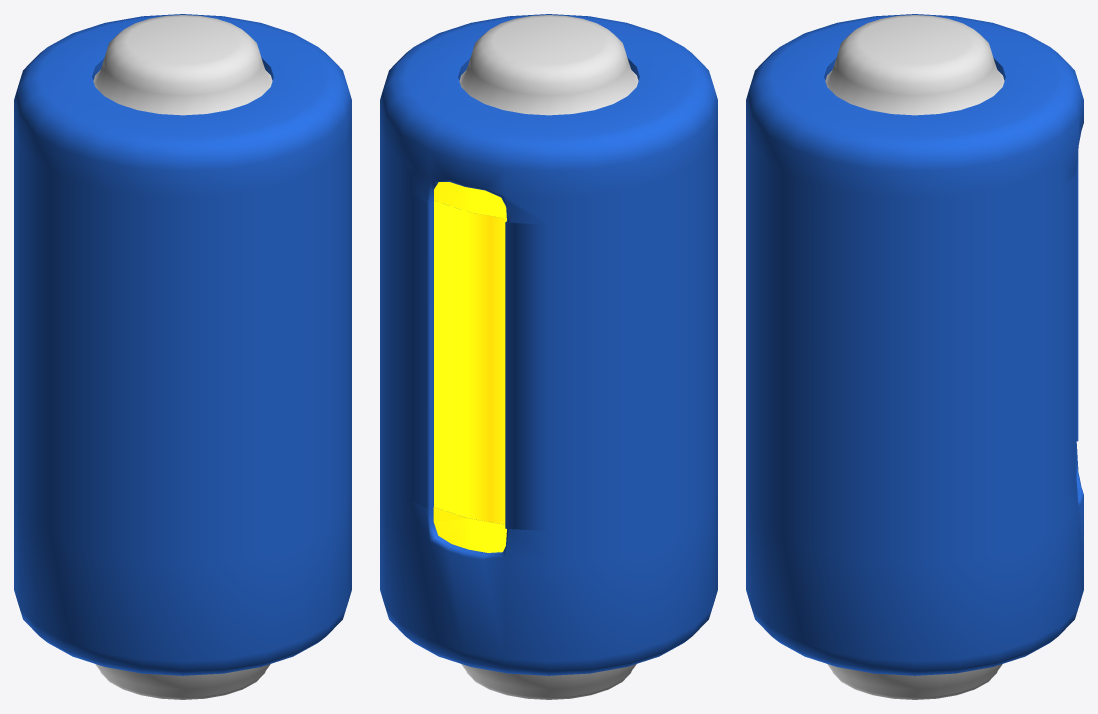
The model's file is Battery_v4.fbx.
3 renders of one model, left to right at view 1: azimuth 30°, elevation 25°; view 2: azimuth 150°, elevation 25°; view 3: azimuth 270°, elevation 25°, orthographic.
Visible parts, largest first — view 1: Batery_End_v2, Buttery_Body_v1.003, Buttery_Body_v1.002, Battery_Bottom_v2; view 2: Batery_End_v2, Battery_Bottom_v2, Buttery_Body_v1.002, Buttery_Body_v1.003; view 3: Batery_End_v2, Battery_Bottom_v2, Buttery_Body_v1.003, Buttery_Body_v1.002.
Boxes of the visible parts, box(x1,y1,x2,y2) form: Batery_End_v2: box(14, 14, 351, 224); Buttery_Body_v1.003: box(14, 307, 351, 531); Buttery_Body_v1.002: box(14, 154, 351, 377); Battery_Bottom_v2: box(14, 460, 351, 699); Batery_End_v2: box(380, 14, 717, 224); Battery_Bottom_v2: box(380, 460, 717, 699); Buttery_Body_v1.002: box(380, 154, 717, 377); Buttery_Body_v1.003: box(380, 307, 717, 531); Batery_End_v2: box(746, 14, 1083, 224); Battery_Bottom_v2: box(746, 444, 1083, 699); Buttery_Body_v1.003: box(746, 288, 1078, 531); Buttery_Body_v1.002: box(746, 153, 1078, 377).
Bounding box in the file's own units: 200 × 408 × 200.
